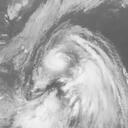cyclone: (43, 42, 91, 88)
